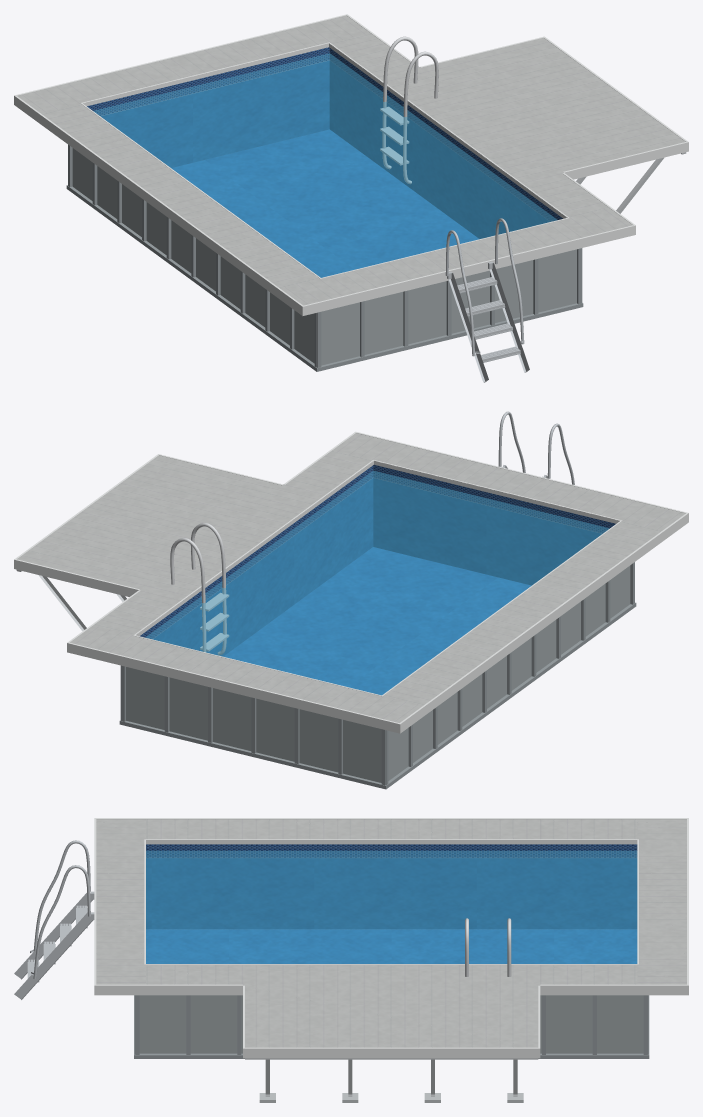
File: kayak-pool-12x20-gray-t-ag-nofence.6b2a3e1119.glb
The picture shows the model from 3 angles, top to bottom: view 1: azimuth 30°, elevation 25°; view 2: azimuth 150°, elevation 25°; view 3: azimuth 270°, elevation 25°; orthographic projection. The views are drawn at different scales.
Parts seen in each view (by area): view 1: water, deck, liner_wall, liner_floor, wall, fascia, upright, ladder, steel; view 2: water, deck, liner_wall, liner_floor, wall, fascia, upright, steel, ladder; view 3: water, deck, liner_wall, liner_floor, fascia, wall, ladder, upright, stud, steel.
Boxes of the visible parts, x1,y1,x2,y2 form: water: (93,53,557,277); deck: (17,15,685,305); liner_wall: (87,47,562,238); liner_floor: (171,129,478,277); wall: (72,148,576,365); fascia: (14,14,688,315); upright: (66,144,583,371); ladder: (445,218,529,382); steel: (380,36,438,184); water: (145,470,609,694); deck: (17,433,685,722); liner_wall: (140,464,615,656); liner_floor: (223,547,531,695); wall: (126,565,630,782); fascia: (14,431,688,733); upright: (119,562,636,789); steel: (170,523,229,655); ladder: (498,411,574,484); water: (146,850,637,963); deck: (96,819,686,1047); liner_wall: (146,844,637,929); liner_floor: (146,929,637,963); fascia: (94,818,688,1058); wall: (139,995,643,1053); ladder: (14,840,94,999); upright: (134,995,649,1058); stud: (245,1058,538,1102); steel: (465,918,511,976).
Bounding box in the file's own units: 6.71 × 1.9 × 8.3.
Materials: 10 (3 with a texture image).
